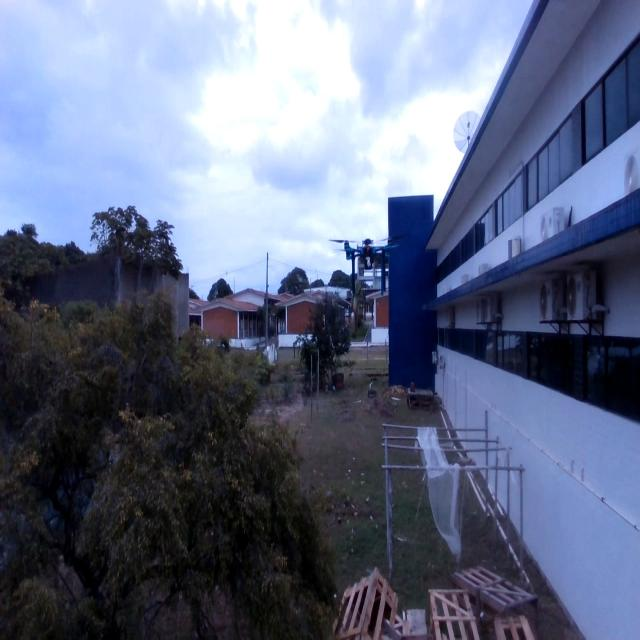-uav-: (322, 230, 412, 311)
